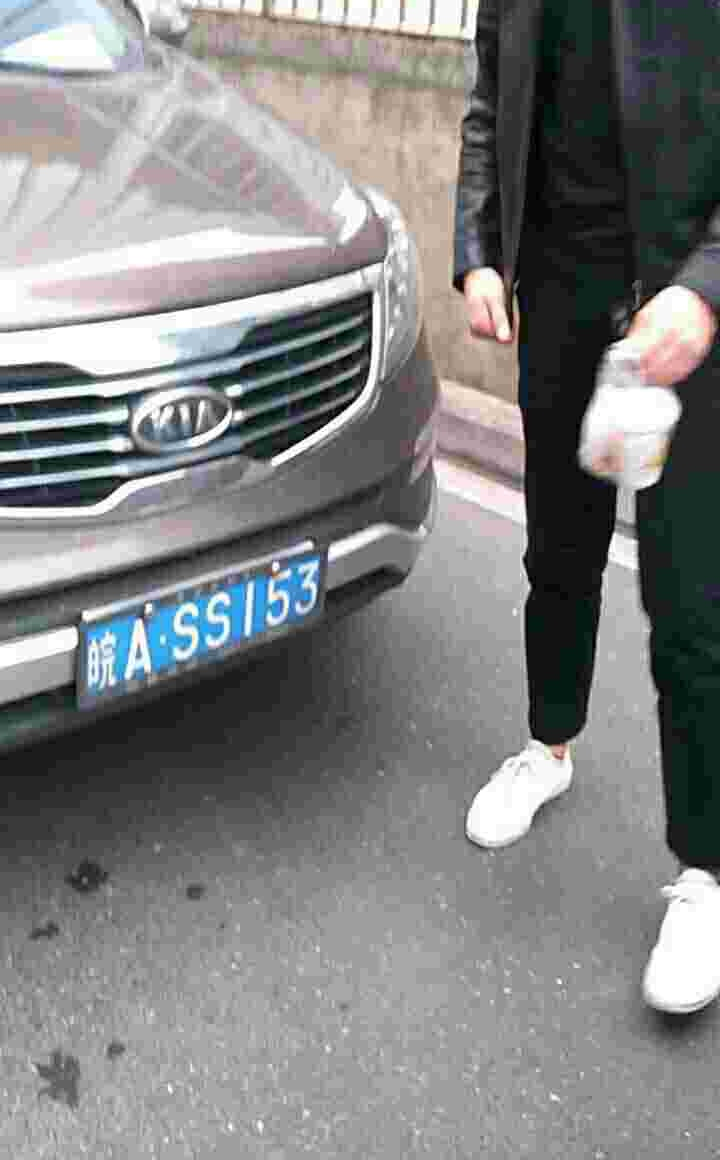license_plate: (84, 552, 318, 693)
